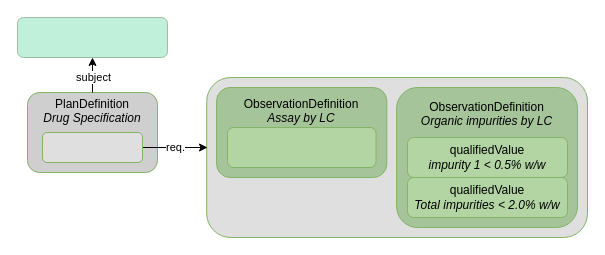
The diagram is 605 pixels wide and 255 high, and some of its shapes have lost their labels. The centre of each missing label's shape, as x and y in pixels:
action: (x=92, y=147)
qualifiedValue 98% w/w - 102% w/w: (x=301, y=147)
SubstanceDefinition Stelbatolol: (x=92, y=37)
